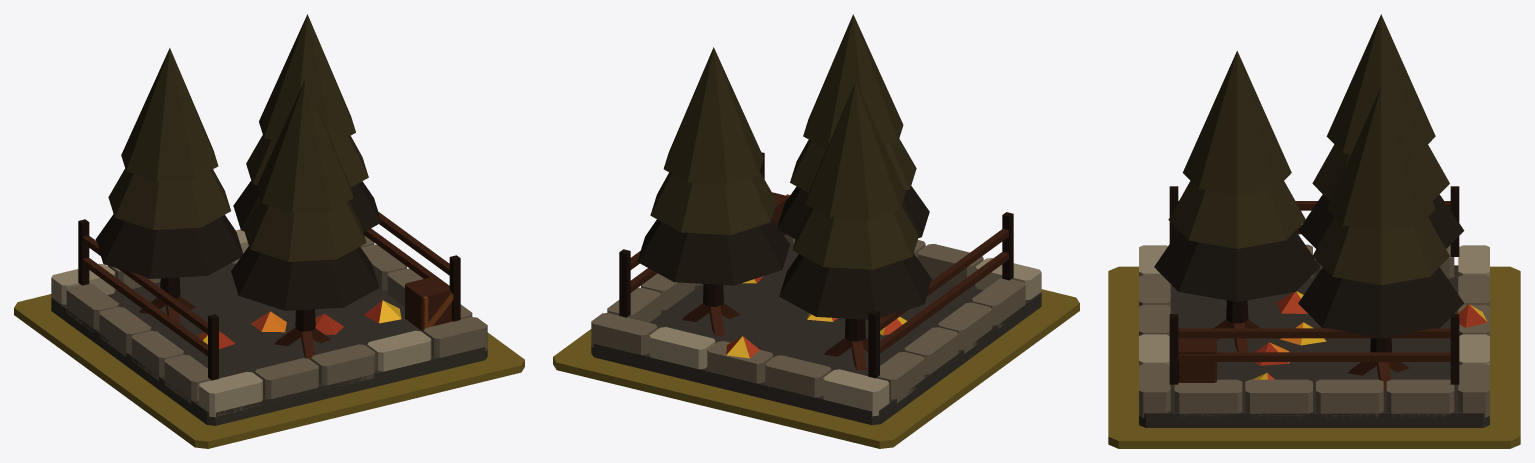
The model's file is whisper-grove_t5.glb.
3 views of the same model, side by side, from view 1: azimuth 30°, elevation 25°; view 2: azimuth 150°, elevation 25°; view 3: azimuth 270°, elevation 25° (orthographic). The views are drawn at different scales.
Visible parts, largest first — view 1: MMR | whisper-grove | T05 Architecture.001, MMR | whisper-grove | Tier 05 Ground.001, MMR | whisper-grove | T05 Autumn Dressing.001; view 2: MMR | whisper-grove | T05 Architecture.001, MMR | whisper-grove | Tier 05 Ground.001, MMR | whisper-grove | T05 Autumn Dressing.001; view 3: MMR | whisper-grove | T05 Architecture.001, MMR | whisper-grove | Tier 05 Ground.001, MMR | whisper-grove | T05 Autumn Dressing.001.
Boxes of the visible parts, bbox=[...] form: MMR | whisper-grove | T05 Architecture.001: bbox=[51, 14, 487, 425]; MMR | whisper-grove | Tier 05 Ground.001: bbox=[14, 294, 524, 448]; MMR | whisper-grove | T05 Autumn Dressing.001: bbox=[198, 300, 401, 349]; MMR | whisper-grove | T05 Architecture.001: bbox=[591, 14, 1041, 424]; MMR | whisper-grove | Tier 05 Ground.001: bbox=[553, 289, 1079, 448]; MMR | whisper-grove | T05 Autumn Dressing.001: bbox=[726, 276, 907, 358]; MMR | whisper-grove | T05 Architecture.001: bbox=[1139, 14, 1489, 427]; MMR | whisper-grove | Tier 05 Ground.001: bbox=[1108, 266, 1520, 448]; MMR | whisper-grove | T05 Autumn Dressing.001: bbox=[1252, 291, 1487, 379].
Size of the model in its own units: 2.35 by 1.96 by 2.35.
1 material, 1 textured.
